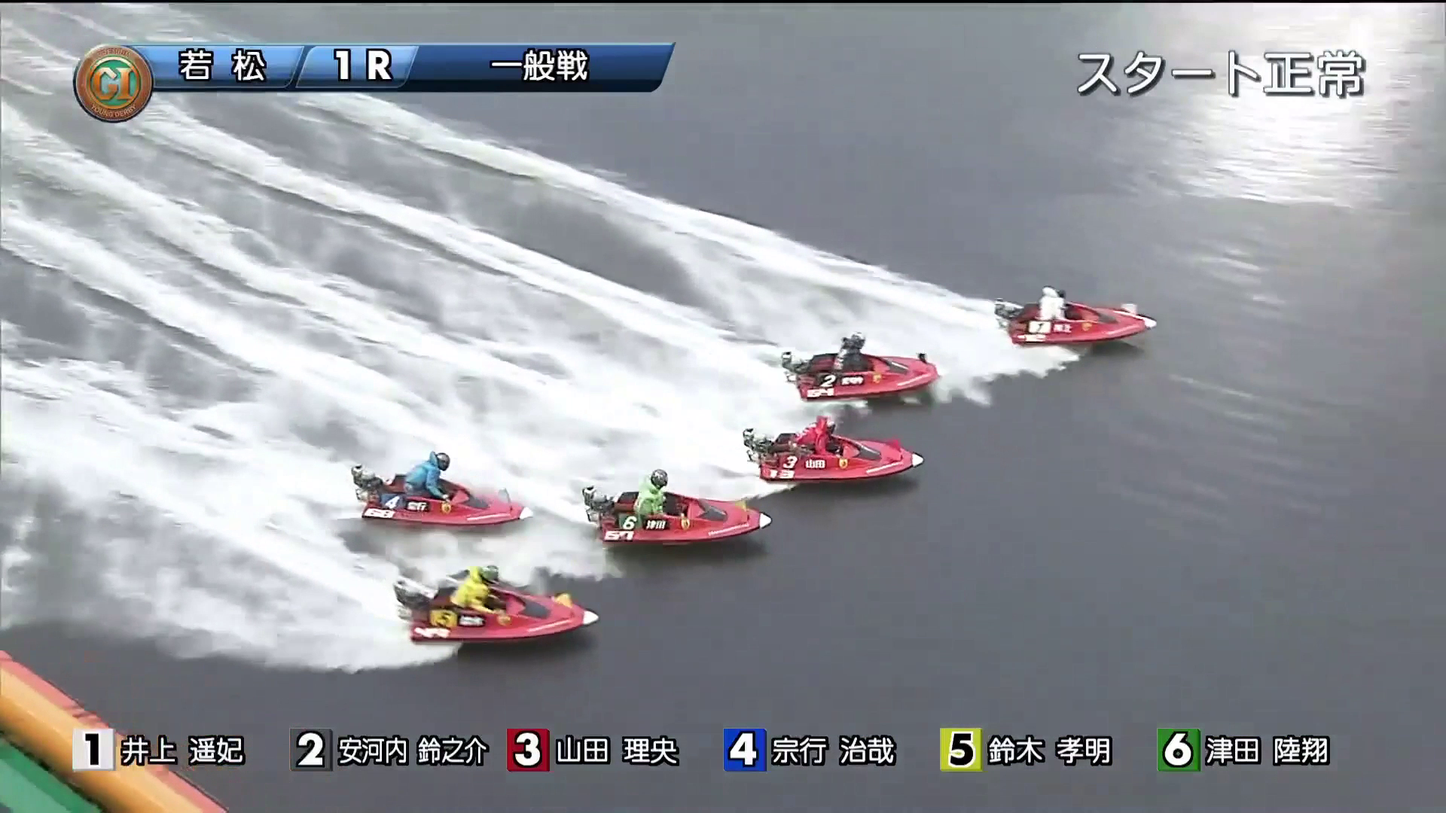１号艇: (1011, 297, 1149, 350)
２号艇: (794, 340, 923, 401)
３号艇: (785, 429, 926, 474)
４号艇: (613, 485, 733, 551)
５号艇: (368, 480, 491, 535)
６号艇: (481, 595, 581, 652)
